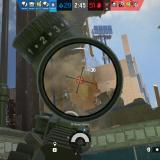Character: (6, 98, 17, 128)
